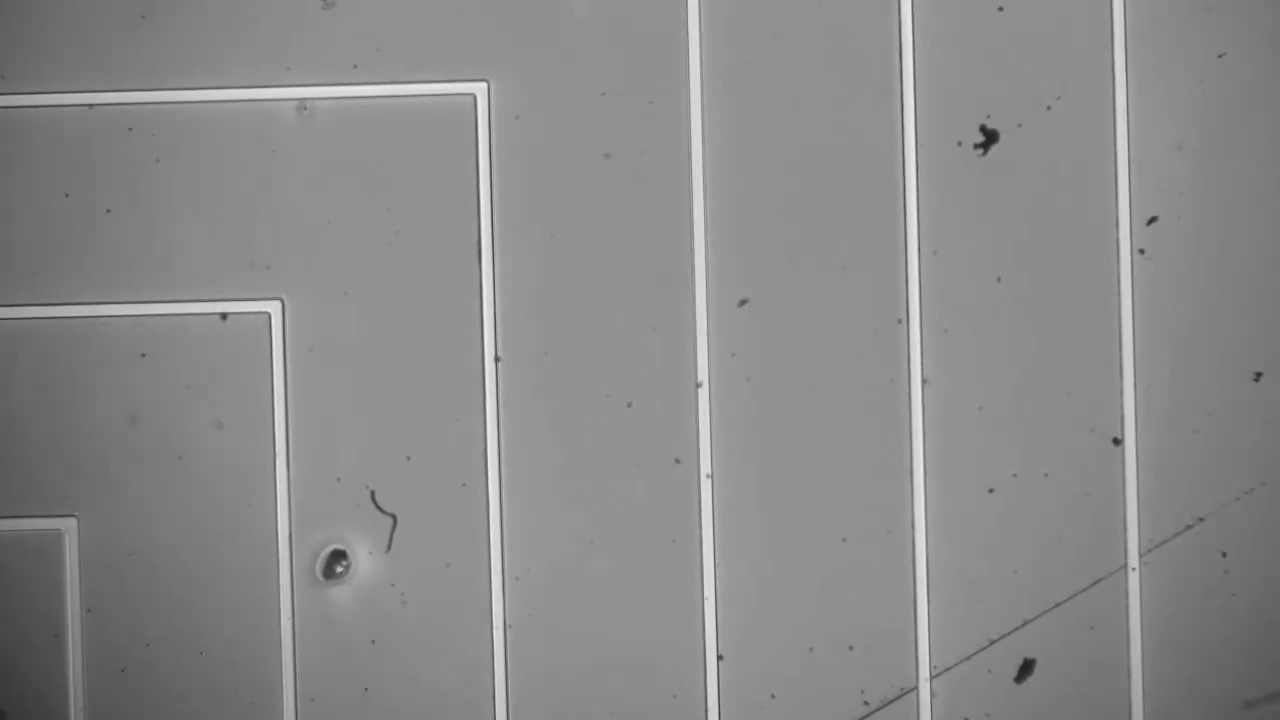scratch: (855, 481, 1246, 719)
